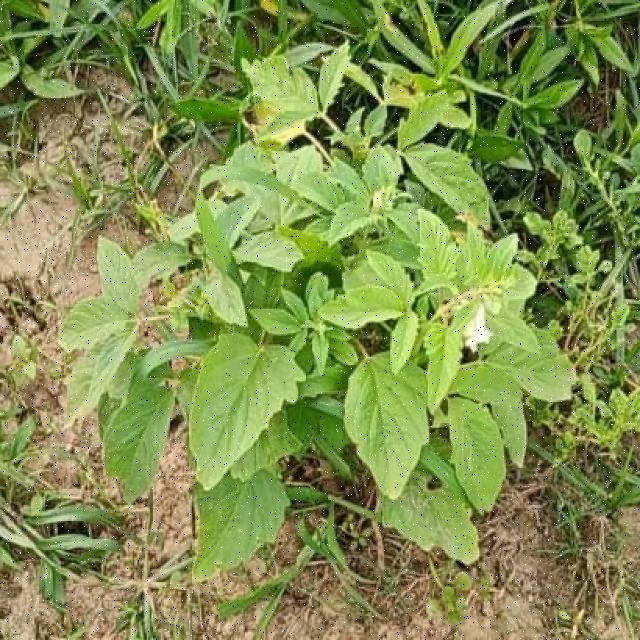plant: (60, 4, 575, 576)
